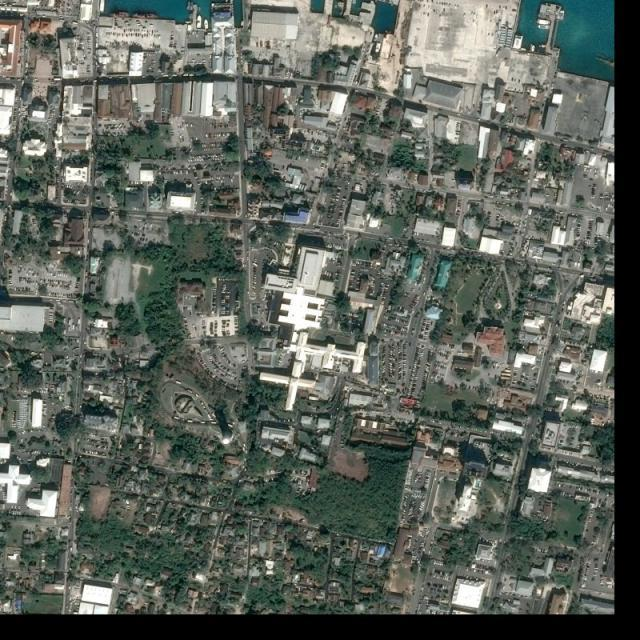ship: (110, 11, 130, 18), (131, 13, 158, 18), (537, 18, 550, 25), (196, 14, 202, 29), (204, 19, 210, 30), (537, 24, 550, 29), (190, 1, 194, 11), (186, 1, 190, 11), (185, 21, 194, 24), (540, 45, 546, 48), (532, 45, 535, 51)
